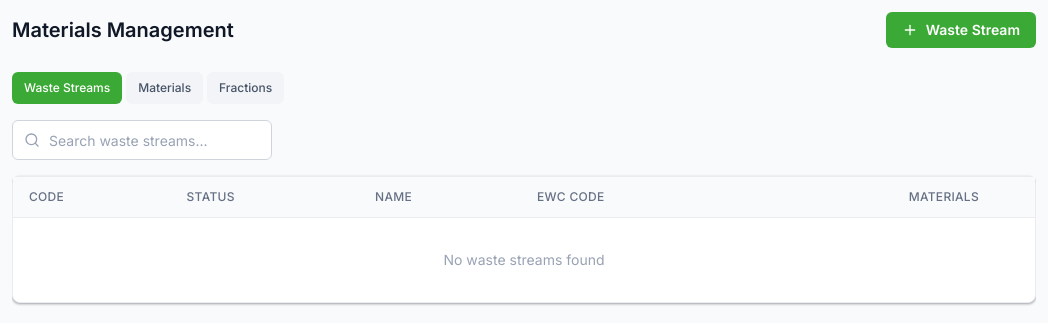
Test: MaterialsManagementPage › switches to Materials tab and shows empty state
The image size is (1048, 323).
// Click the Materials tab button (there are tab buttons distinct from the table header)
Click the button "Materials" at (165, 88), box [126, 72, 203, 104]
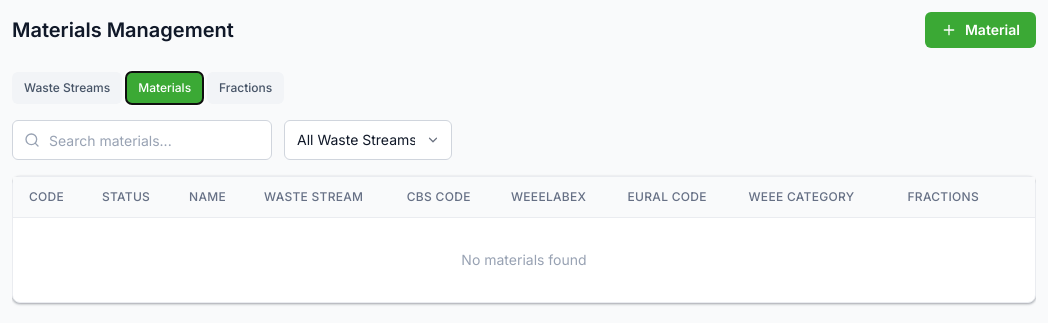
Result: the text "No materials found" is shown at [13, 218, 1035, 302]
